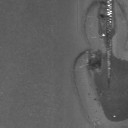slag inclusion: (71, 0, 128, 125)
